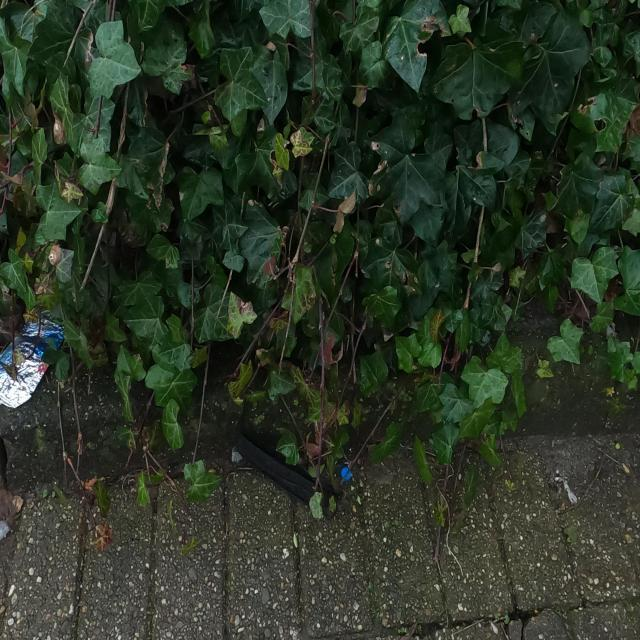Can-Metal: (5, 307, 66, 413)
Mask: (233, 417, 339, 519)
